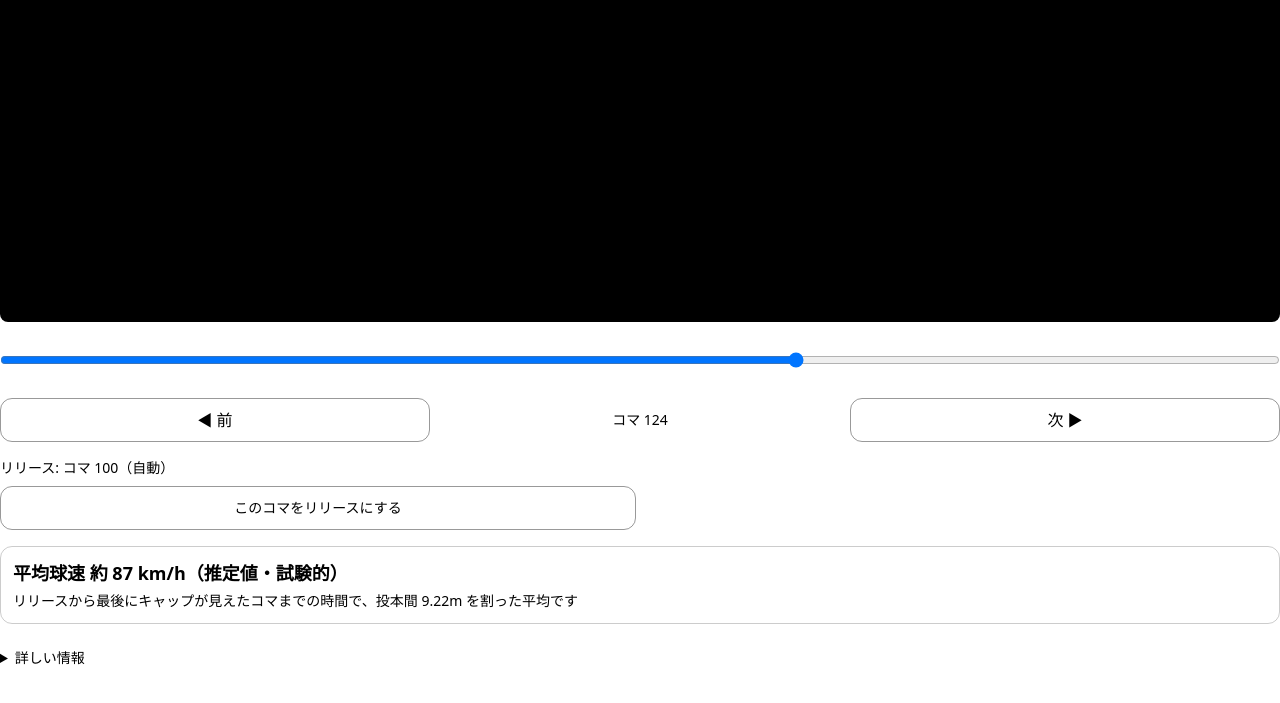
Test: TrajectoryResult › リリースを最後の検出より後にすると案内を出し、自動の候補に戻せる
(page scrolled)
Set the slider named "コマ" to "150". click: (961, 360)
box: [0, 338, 1279, 382]
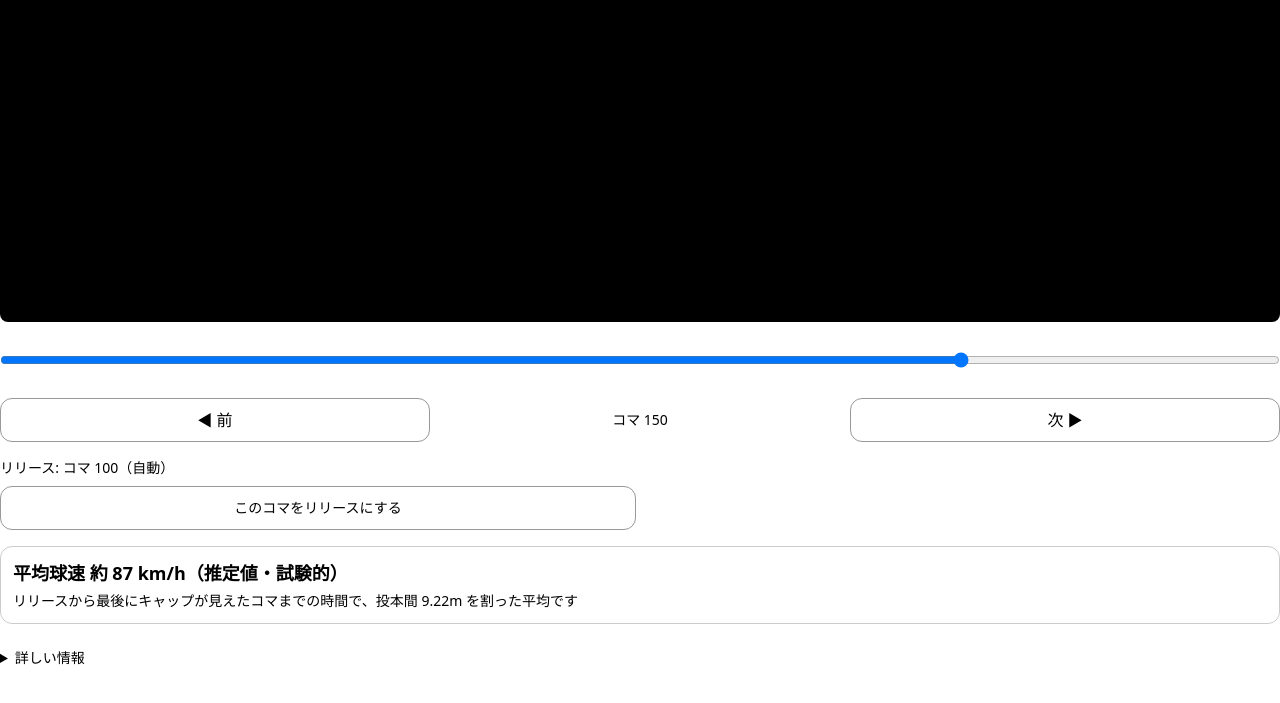
Click the button "このコマをリリースにする". click: (318, 508)
box: [0, 486, 636, 530]
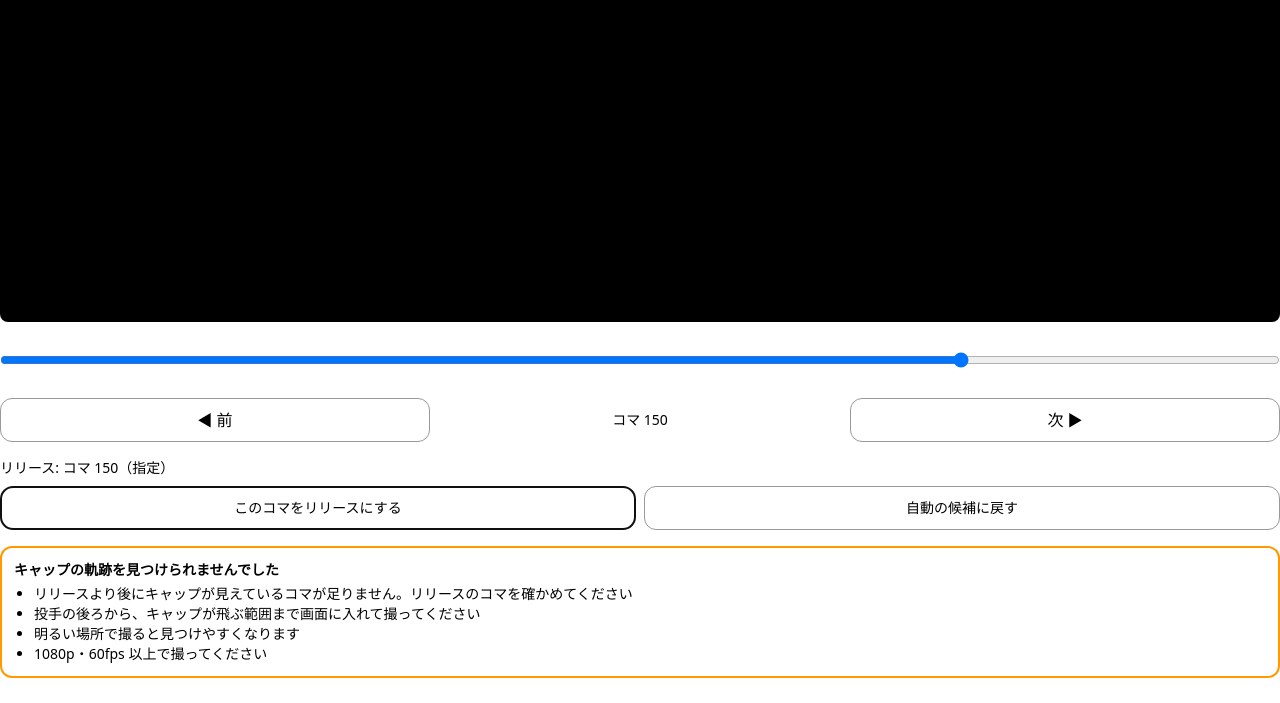
Now the text "リリース: コマ 150（指定）" is shown, box [0, 458, 174, 477]
Now the message shows "キャップの軌跡を見つけられませんでした", box [14, 560, 279, 579]
Now the message shows "リリースより後", box [34, 584, 633, 603]
Click the button "自動の候補に戻す". click: (962, 508)
box: [644, 486, 1279, 530]
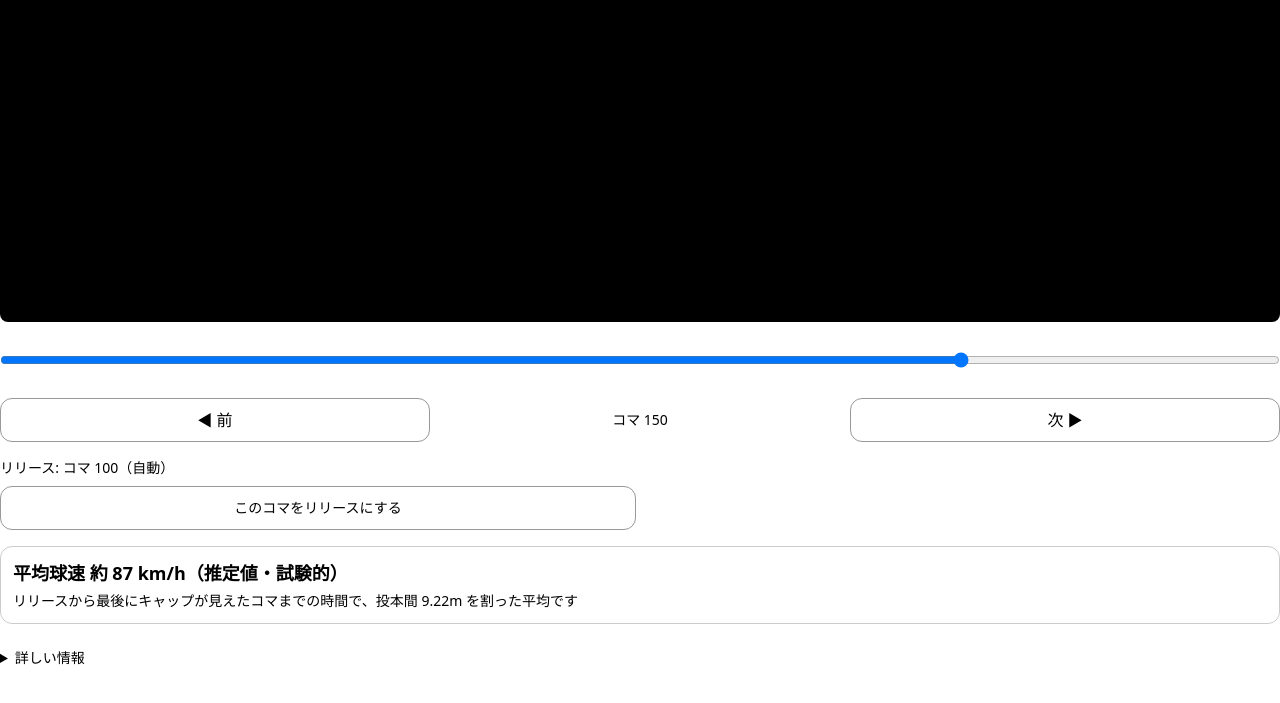
Now the text "平均球速 約 87 km/h（推定値・試験的）" is shown, box [13, 561, 348, 585]
